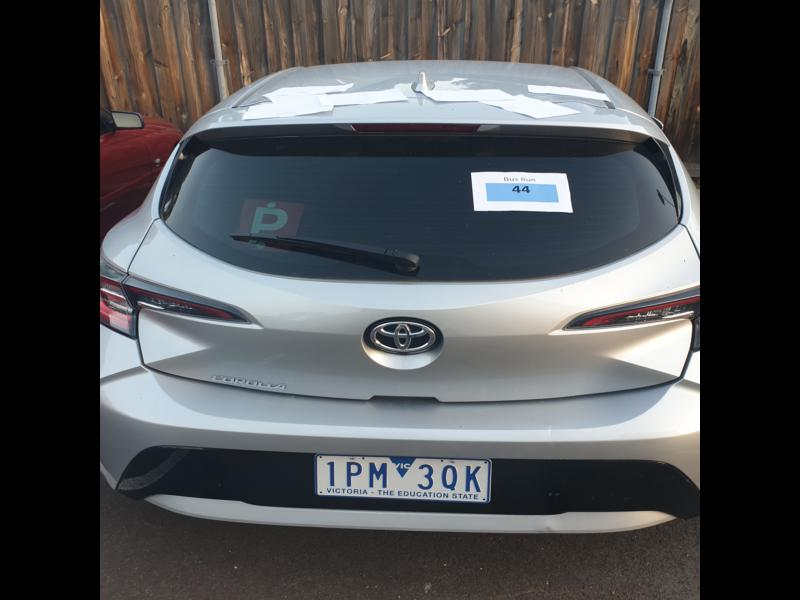BusRun: (485, 182, 560, 204)
PlateNo: (311, 451, 490, 504)
